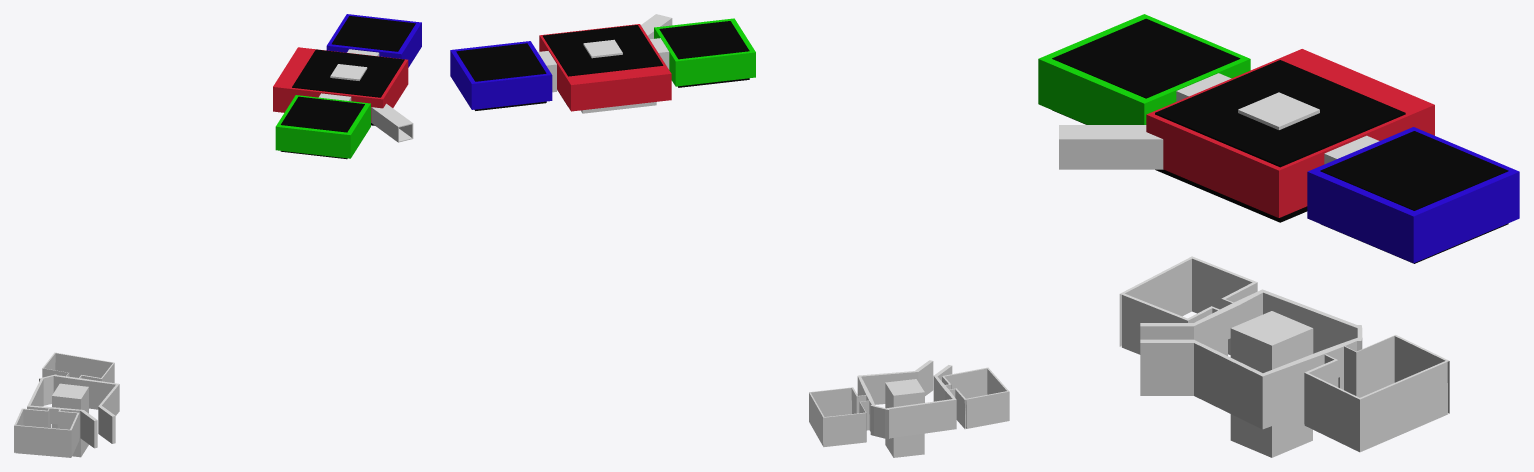
File: Mapa_Alpha1.fbx
3 views of the same model, side by side, from view 1: azimuth 30°, elevation 25°; view 2: azimuth 150°, elevation 25°; view 3: azimuth 270°, elevation 25° (orthographic). The views are drawn at different scales.
Parts seen in each view (by area): view 1: Cube, SueloR.003, ParedV, ParedR, SueloA.003, SueloV.001, ParedA, TunelAsc, AqC; view 2: Cube, ParedR, SueloR.003, ParedA, ParedV, SueloA.003, SueloV.001; view 3: Cube, ParedR, SueloR.003, ParedA, SueloA.003, SueloV.001, ParedV, TunelAsc, AqC, SueloR, PuenteAR, PuenteVR.
Part boxes in pixels (x1=…): Cube: x1=14, y1=352, x2=119, y2=457; SueloR.003: x1=292, y1=49, x2=404, y2=97; ParedV: x1=275, y1=95, x2=370, y2=158; ParedR: x1=273, y1=47, x2=408, y2=122; SueloA.003: x1=332, y1=16, x2=415, y2=51; SueloV.001: x1=281, y1=96, x2=364, y2=132; ParedA: x1=326, y1=14, x2=421, y2=67; TunelAsc: x1=371, y1=103, x2=413, y2=142; AqC: x1=330, y1=64, x2=367, y2=80; Cube: x1=809, y1=360, x2=1009, y2=457; ParedR: x1=539, y1=24, x2=671, y2=111; SueloR.003: x1=543, y1=25, x2=663, y2=76; ParedA: x1=450, y1=41, x2=552, y2=109; ParedV: x1=654, y1=18, x2=755, y2=86; SueloA.003: x1=456, y1=43, x2=546, y2=81; SueloV.001: x1=659, y1=21, x2=749, y2=59; Cube: x1=1119, y1=256, x2=1449, y2=457; ParedR: x1=1146, y1=49, x2=1434, y2=217; SueloR.003: x1=1155, y1=60, x2=1405, y2=167; ParedA: x1=1307, y1=127, x2=1519, y2=263; SueloA.003: x1=1320, y1=131, x2=1508, y2=210; SueloV.001: x1=1052, y1=18, x2=1240, y2=98; ParedV: x1=1038, y1=14, x2=1250, y2=124; TunelAsc: x1=1059, y1=125, x2=1163, y2=169; AqC: x1=1238, y1=92, x2=1319, y2=129; SueloR: x1=1155, y1=169, x2=1307, y2=222; PuenteAR: x1=1324, y1=135, x2=1379, y2=164; PuenteVR: x1=1176, y1=73, x2=1231, y2=101.
Size of the model in its own units: 8173 by 5173 by 3794.
